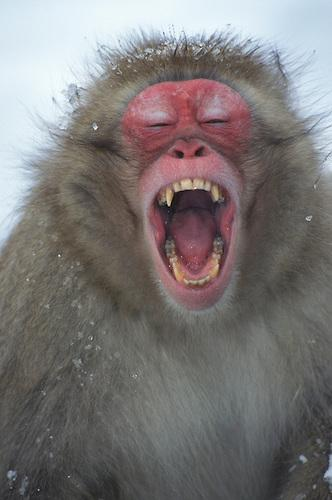monkey: (0, 33, 328, 500)
